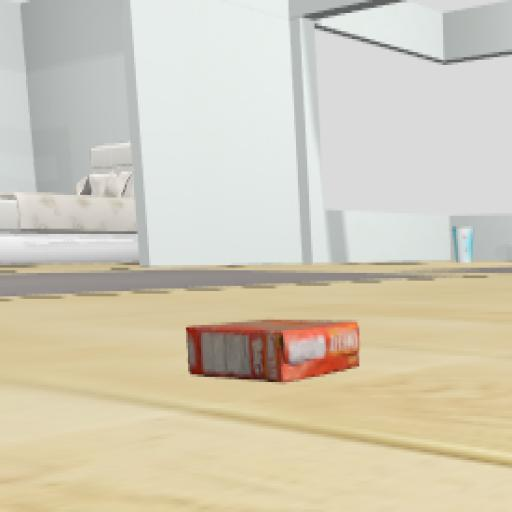BOX_R: (156, 192, 407, 440)
